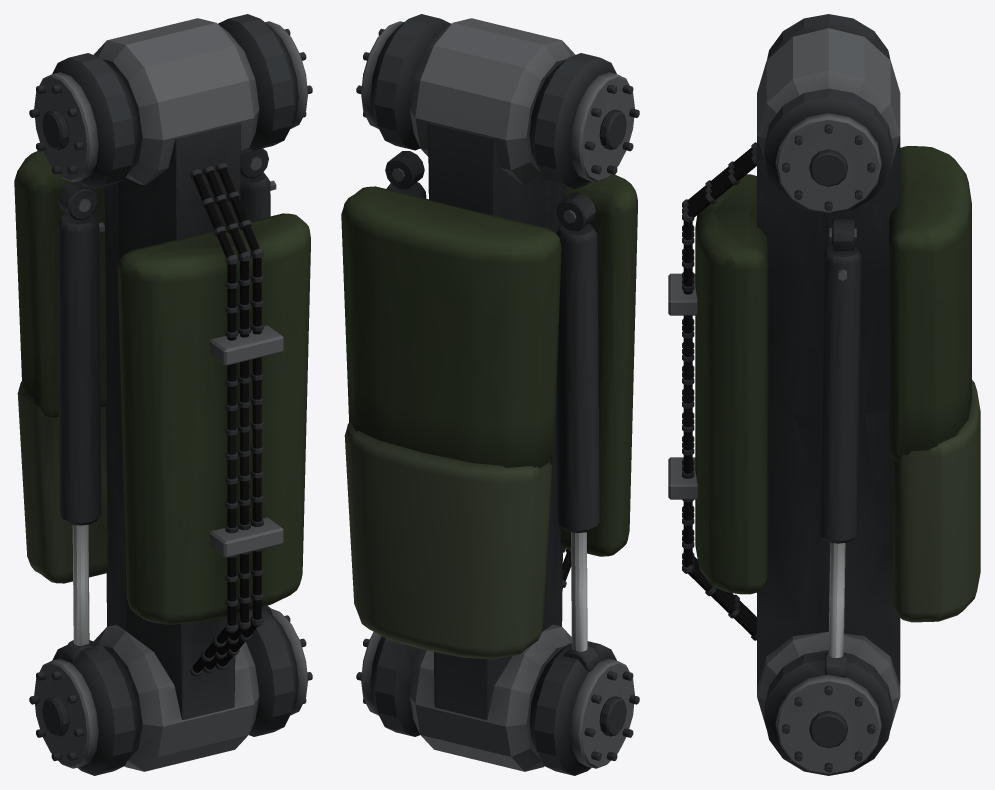
The model's file is frame.limb.glb.
3 views of the same model, side by side, from view 1: azimuth 30°, elevation 25°; view 2: azimuth 150°, elevation 25°; view 3: azimuth 270°, elevation 25° (orthographic). The views are drawn at different scales.
Bounding box in the file's own units: 1.29 × 3.72 × 1.53.
